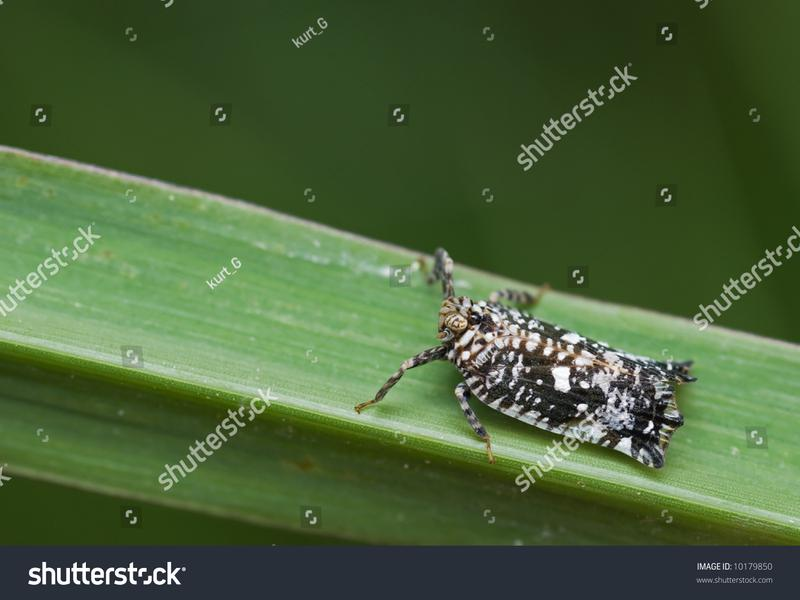Brown_plant_leafhopper: (388, 279, 698, 484)
